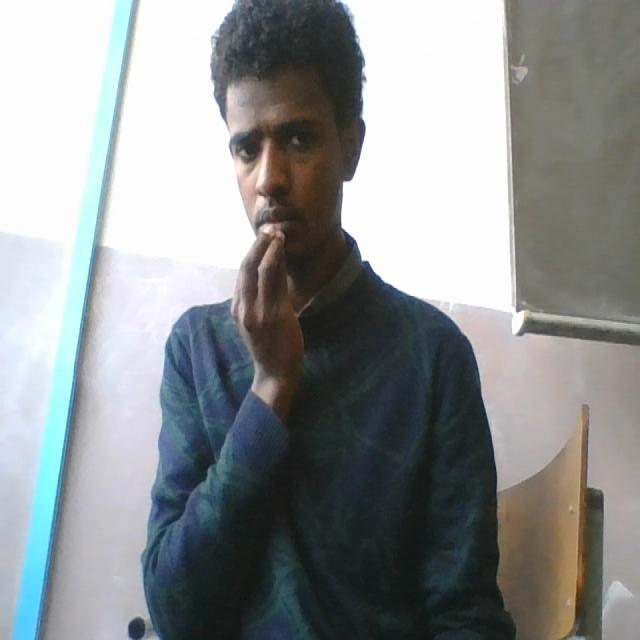meblat: (228, 204, 318, 411)
